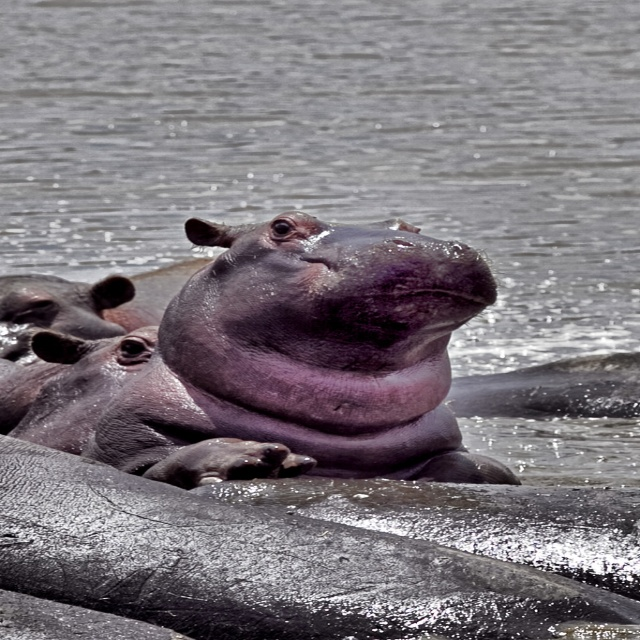Hippopotamus: (0, 211, 522, 486)
